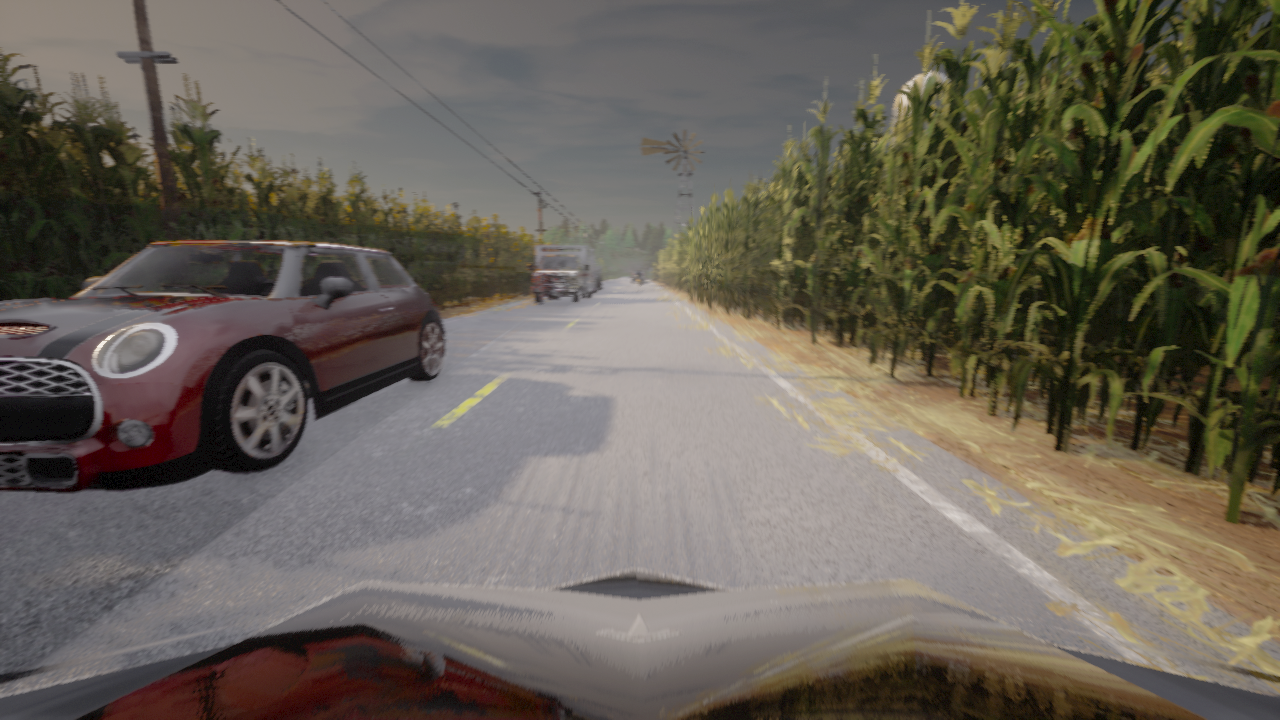cyclist: (0, 569, 1279, 719), (0, 241, 445, 492), (527, 244, 595, 302), (593, 261, 603, 293), (632, 271, 644, 282), (636, 277, 639, 284)
